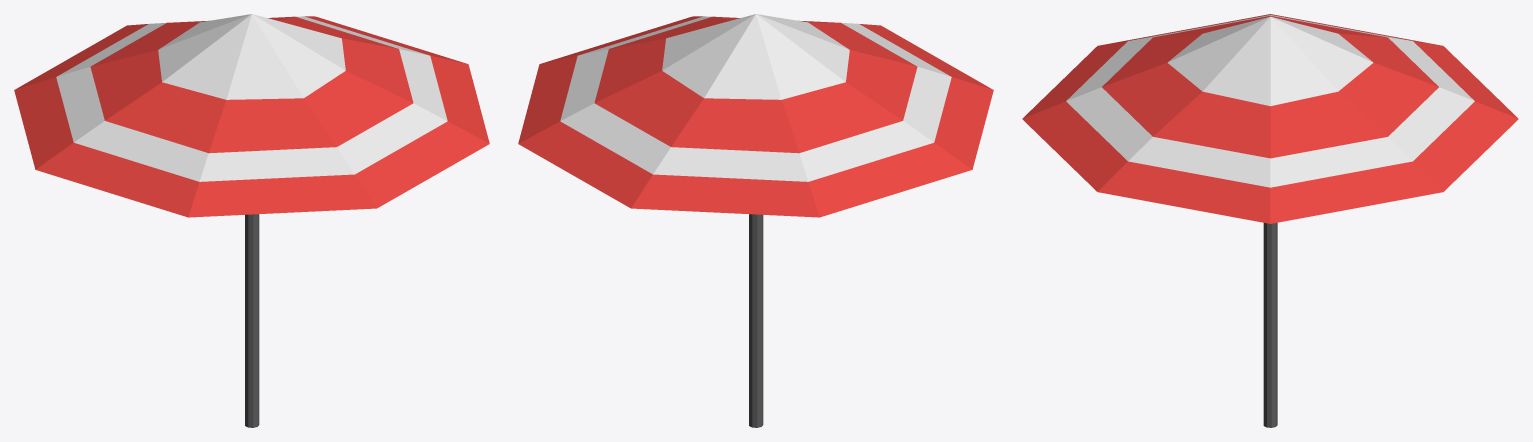
Rendered from Sombrillita.fbx.
The picture shows the model from 3 angles, left to right: view 1: azimuth 30°, elevation 25°; view 2: azimuth 150°, elevation 25°; view 3: azimuth 270°, elevation 25°; orthographic projection.
Parts seen in each view (by area): view 1: Cube; view 2: Cube; view 3: Cube.
Boxes of the visible parts, left/top/right/bottom form: Cube: left=14, top=14, right=489, bottom=427; Cube: left=518, top=14, right=993, bottom=427; Cube: left=1022, top=14, right=1518, bottom=427.
Size of the model in its own units: 364 by 330 by 364.
